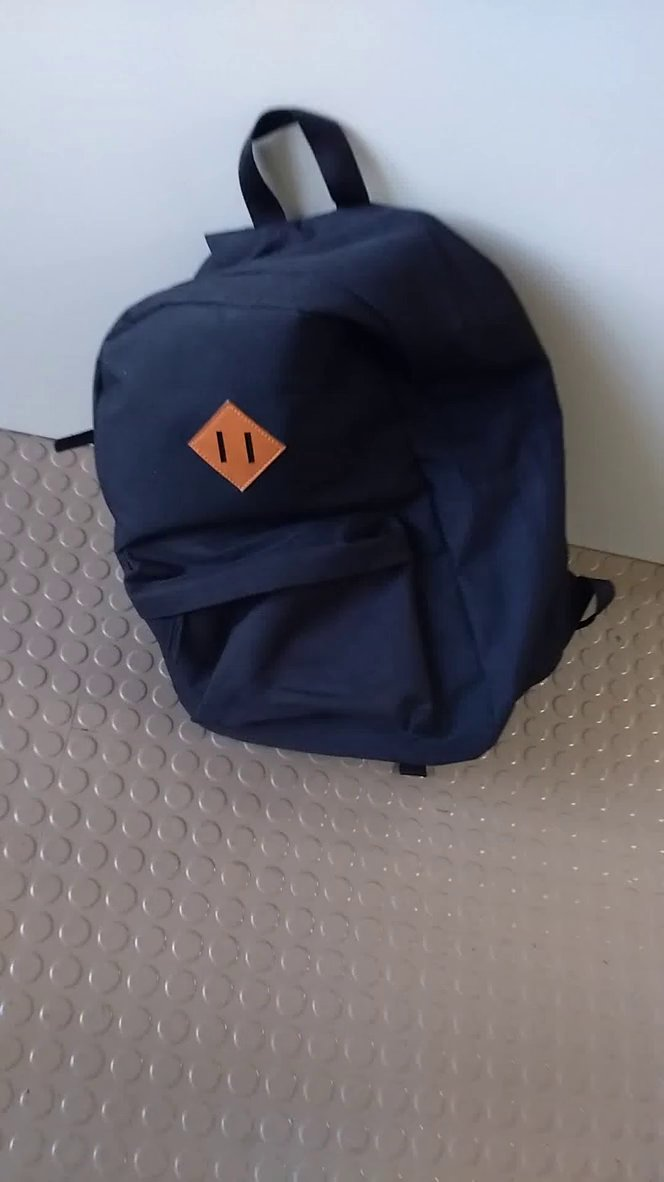bag: (30, 89, 640, 798)
